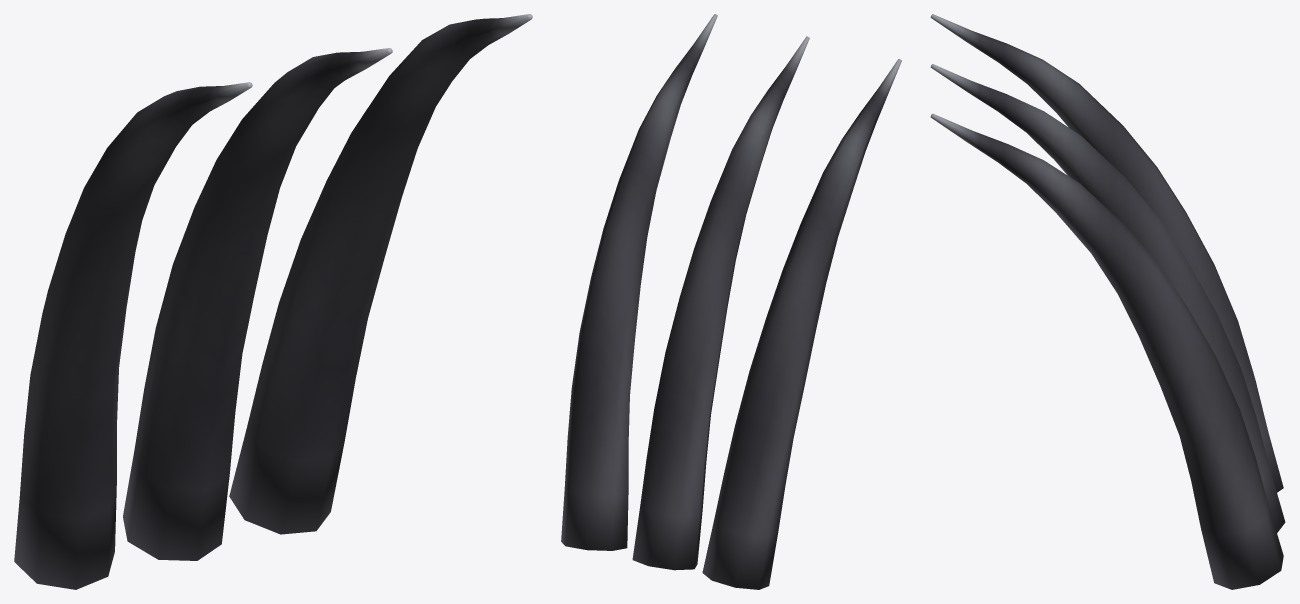
File: parasite_brute_hunter_arm.obj
3 views of the same model, side by side, from view 1: azimuth 30°, elevation 25°; view 2: azimuth 150°, elevation 25°; view 3: azimuth 270°, elevation 25° (orthographic). The views are drawn at different scales.
Visible parts, largest first — view 1: brute_hunter_arm; view 2: brute_hunter_arm; view 3: brute_hunter_arm.
Part boxes in pixels (left/top/right/bottom): brute_hunter_arm: left=14, top=14, right=532, bottom=589; brute_hunter_arm: left=561, top=14, right=901, bottom=589; brute_hunter_arm: left=930, top=14, right=1285, bottom=589.
Size of the model in its own units: 0.231 by 0.435 by 0.2937.
